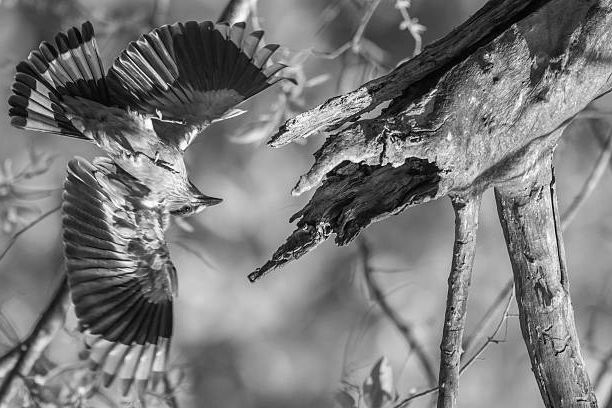Bird: (5, 17, 302, 395)
